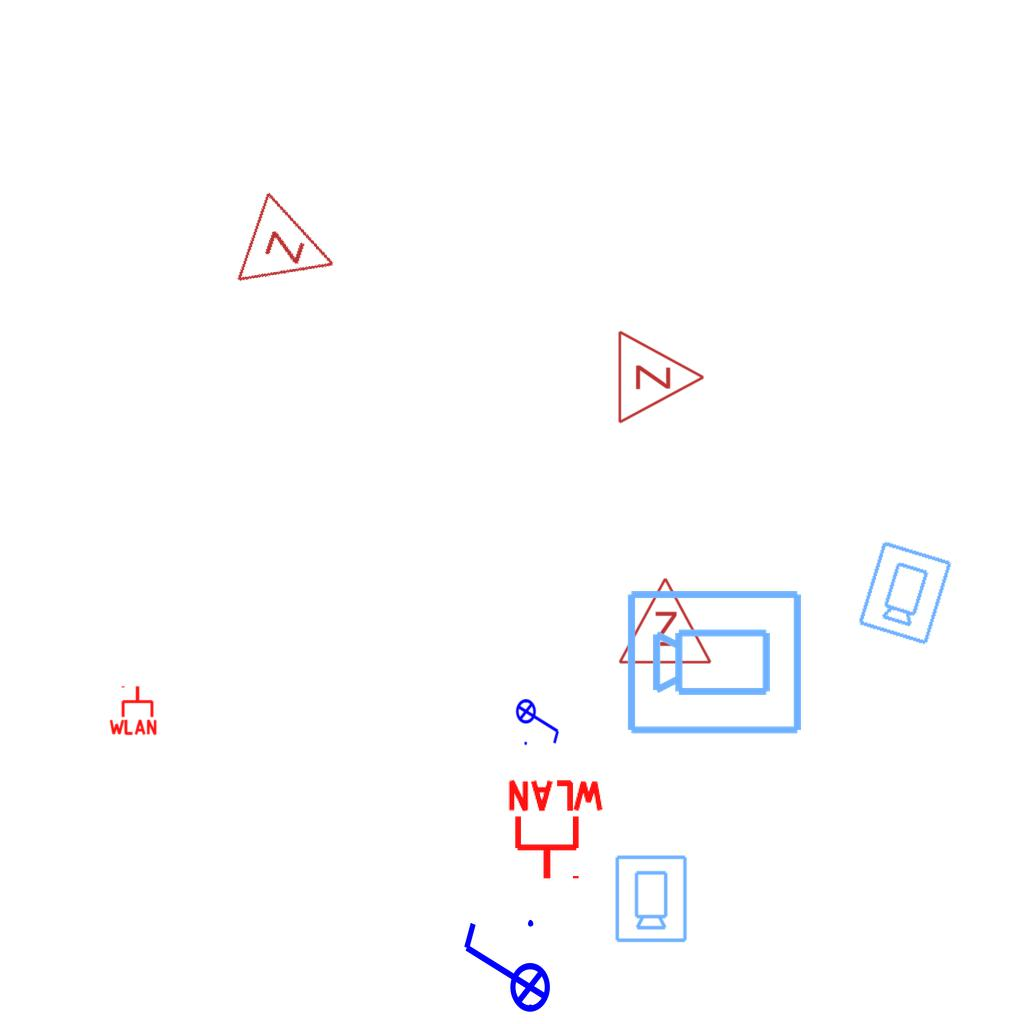Ausschalter_beleuchtet: (456, 914, 552, 1024), (515, 692, 563, 748)
KFO_Kamera_mit_Festobjektiv: (624, 584, 806, 738), (854, 537, 955, 648), (612, 853, 689, 944)
WLAN: (504, 778, 608, 883), (107, 684, 159, 736)
Zimmersignalleuchte: (229, 186, 357, 312), (615, 571, 713, 671), (611, 327, 711, 425)
